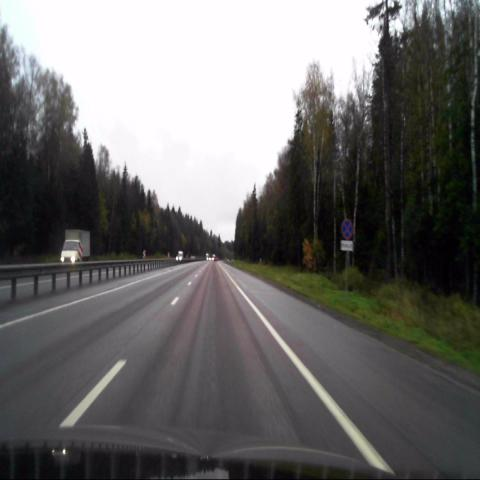3_27: (341, 218, 353, 238)
8_2_1: (340, 240, 354, 251)
